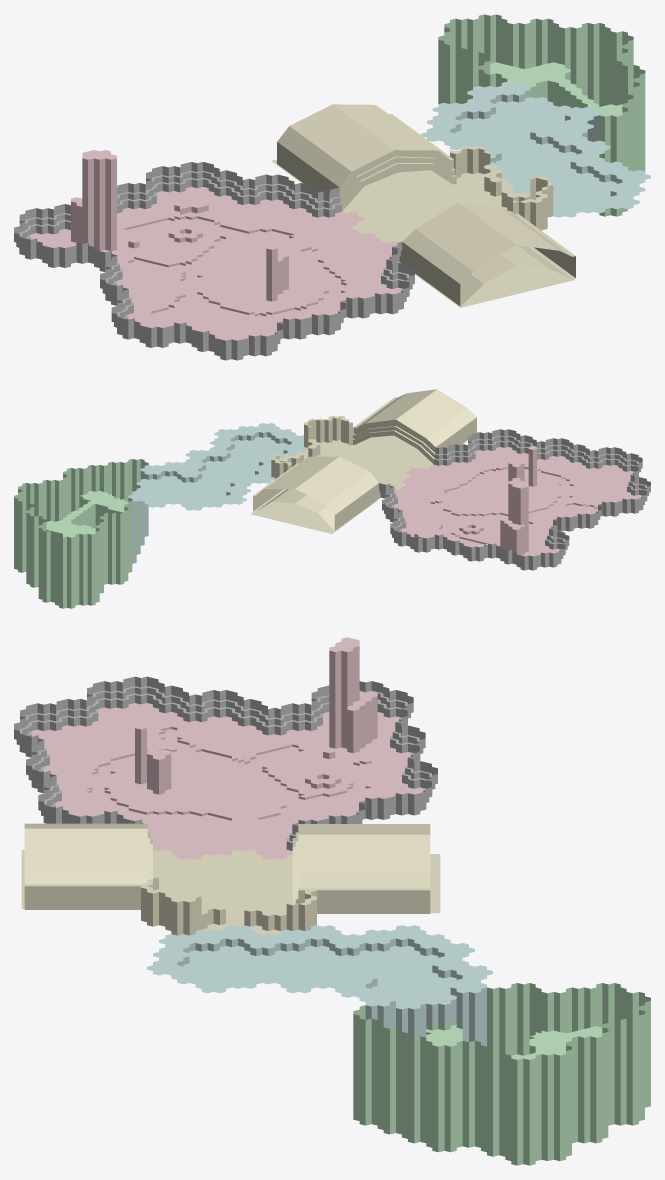
Rendered from future_whitebox.fbx.
The picture shows the model from 3 angles, top to bottom: view 1: azimuth 30°, elevation 25°; view 2: azimuth 150°, elevation 25°; view 3: azimuth 270°, elevation 25°; orthographic projection. The views are drawn at different scales.
Parts seen in each view (by area): view 1: polySurface42, pCylinder133, pCylinder180, polySurface43, pCylinder168; view 2: pCylinder133, polySurface42, pCylinder180, polySurface43, pCylinder168; view 3: polySurface42, pCylinder180, pCylinder133, pCylinder168, polySurface43.
Boxes of the visible parts, x1,y1,x2,y2 form: polySurface42: (30,150,401,340); pCylinder133: (271,104,575,307); pCylinder180: (438,14,645,216); polySurface43: (14,162,414,360); pCylinder168: (421,81,650,217); pCylinder133: (250,389,478,533); polySurface42: (394,446,641,556); pCylinder180: (14,459,148,608); polySurface43: (379,429,650,570); pCylinder168: (128,423,308,563); polySurface42: (31,637,423,859); pCylinder180: (353,983,650,1165); pCylinder133: (21,823,440,935); pCylinder168: (147,925,492,1046); polySurface43: (14,676,437,850).
Size of the model in its own units: 1276 by 335 by 955.
